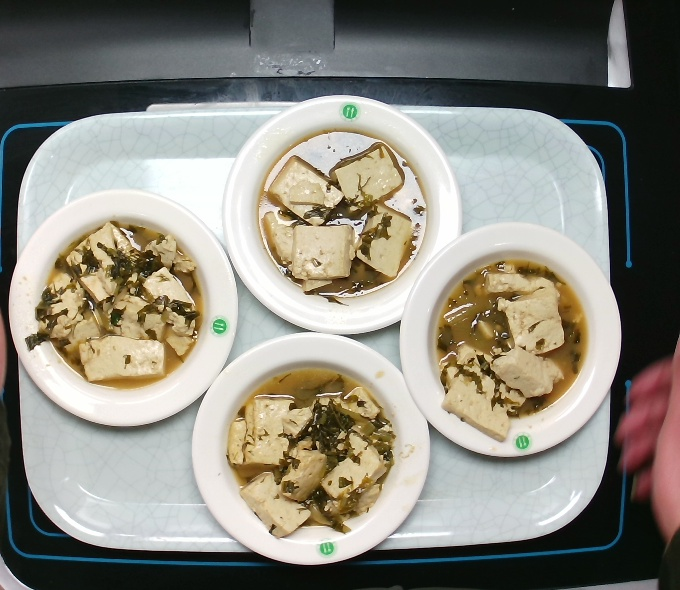wcq-XueCaiDouFu: (24, 217, 209, 393), (219, 360, 397, 542), (252, 127, 431, 304), (426, 254, 592, 443)
